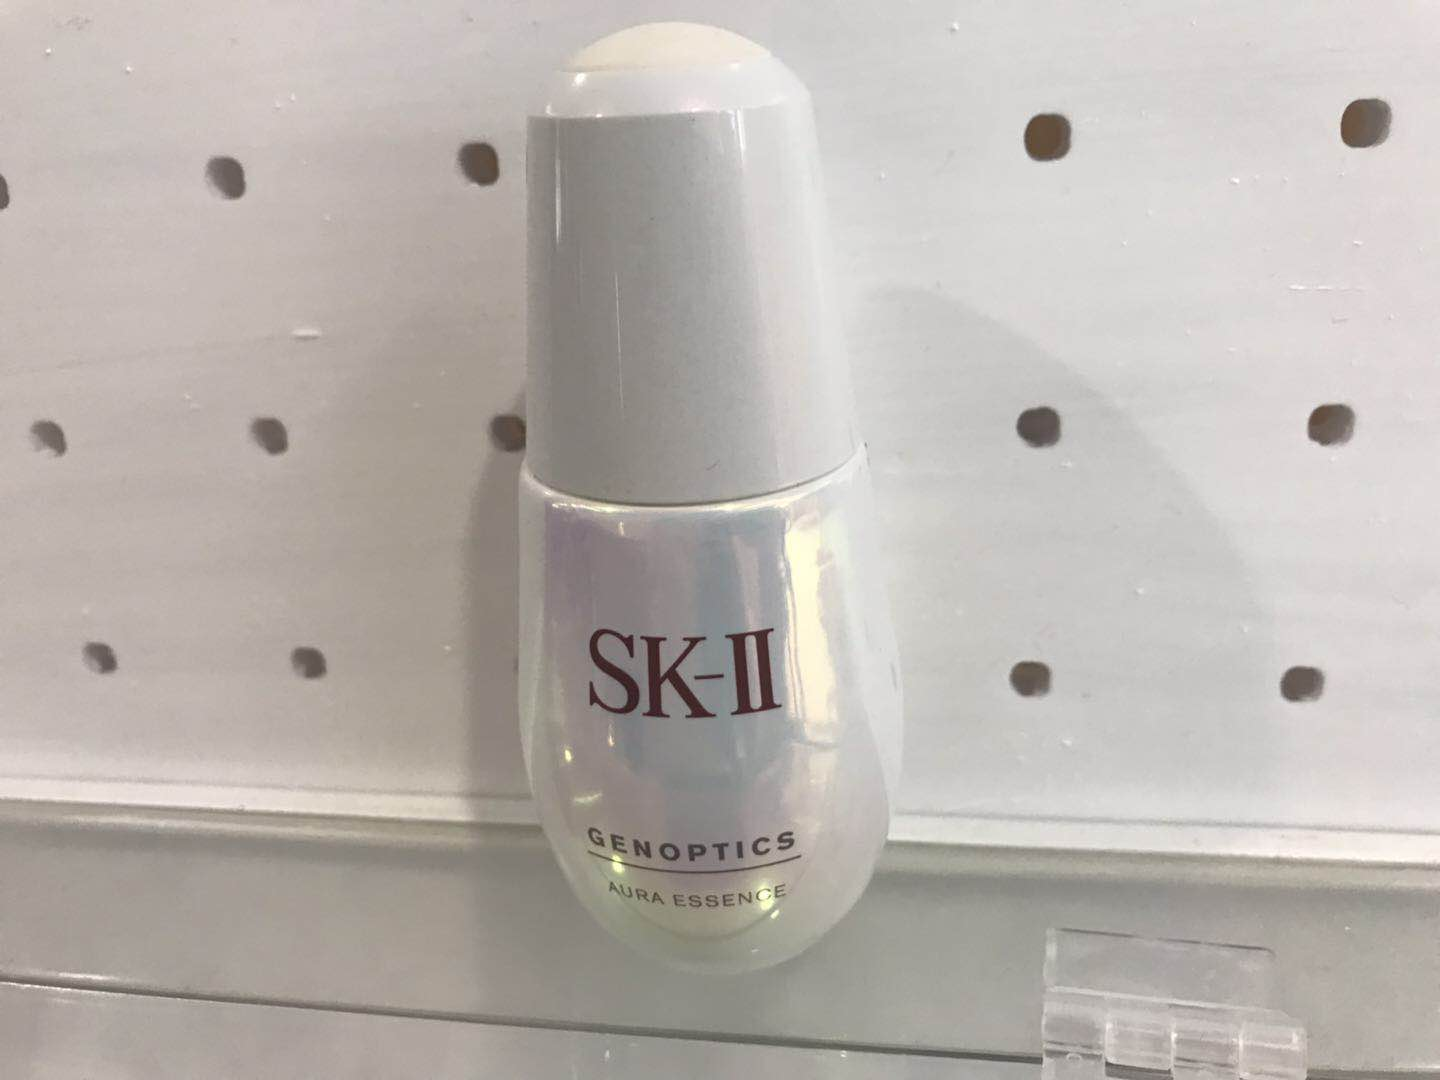sk2: (480, 8, 939, 1028)
